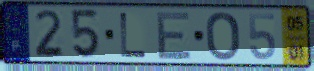2: (34, 8, 66, 59)
5: (69, 7, 102, 62), (247, 12, 277, 62)
E: (155, 10, 194, 61)
L: (119, 11, 150, 60)
O: (204, 10, 241, 62)
